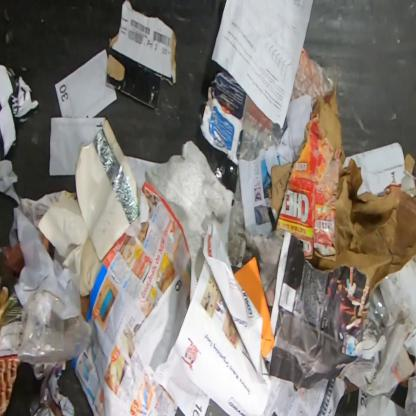cardboard: (306, 93, 416, 291), (276, 113, 341, 262), (106, 0, 177, 108), (234, 255, 276, 360), (0, 244, 25, 308), (0, 354, 19, 415), (270, 162, 294, 210), (405, 154, 415, 174)
soft_plastic: (17, 286, 96, 364), (0, 65, 39, 161), (237, 96, 288, 160), (291, 48, 338, 110), (367, 288, 389, 328)
